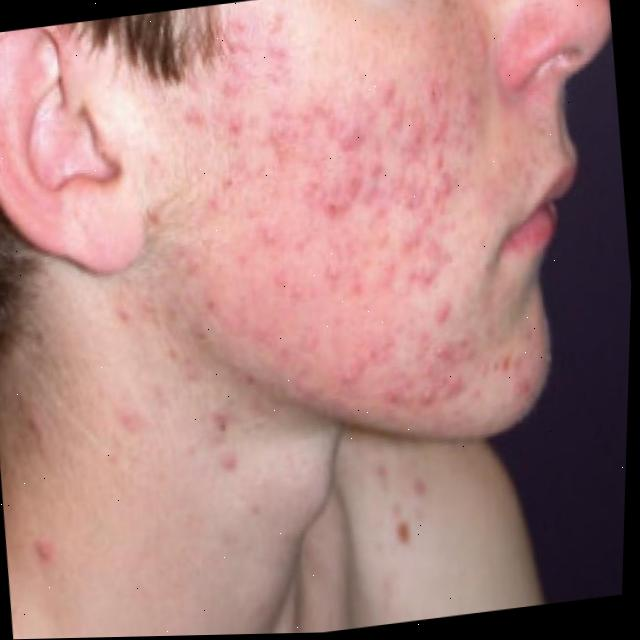Acne: (78, 0, 561, 576)
